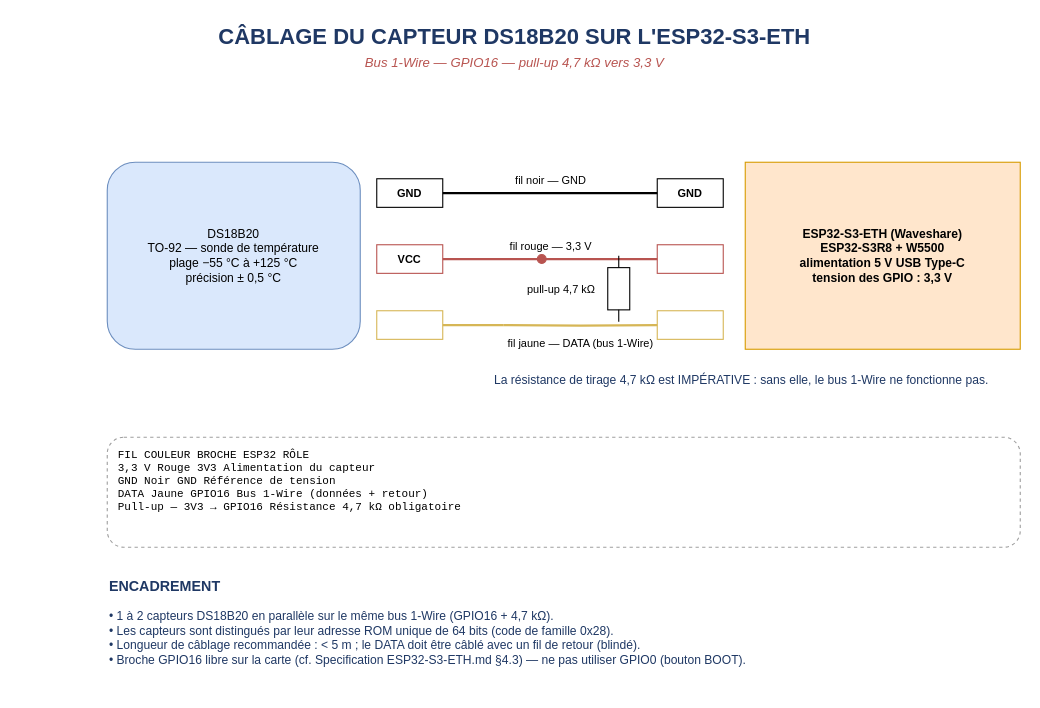
The diagram is 1040 pixels wide and 708 high, and some of its shapes have lost their labels. The centre of each missing label's shape, as x and y in pixels:
"3V3" belongs at (x=689, y=258).
"DQ" belongs at (x=409, y=324).
"GPIO16" belongs at (x=689, y=324).
